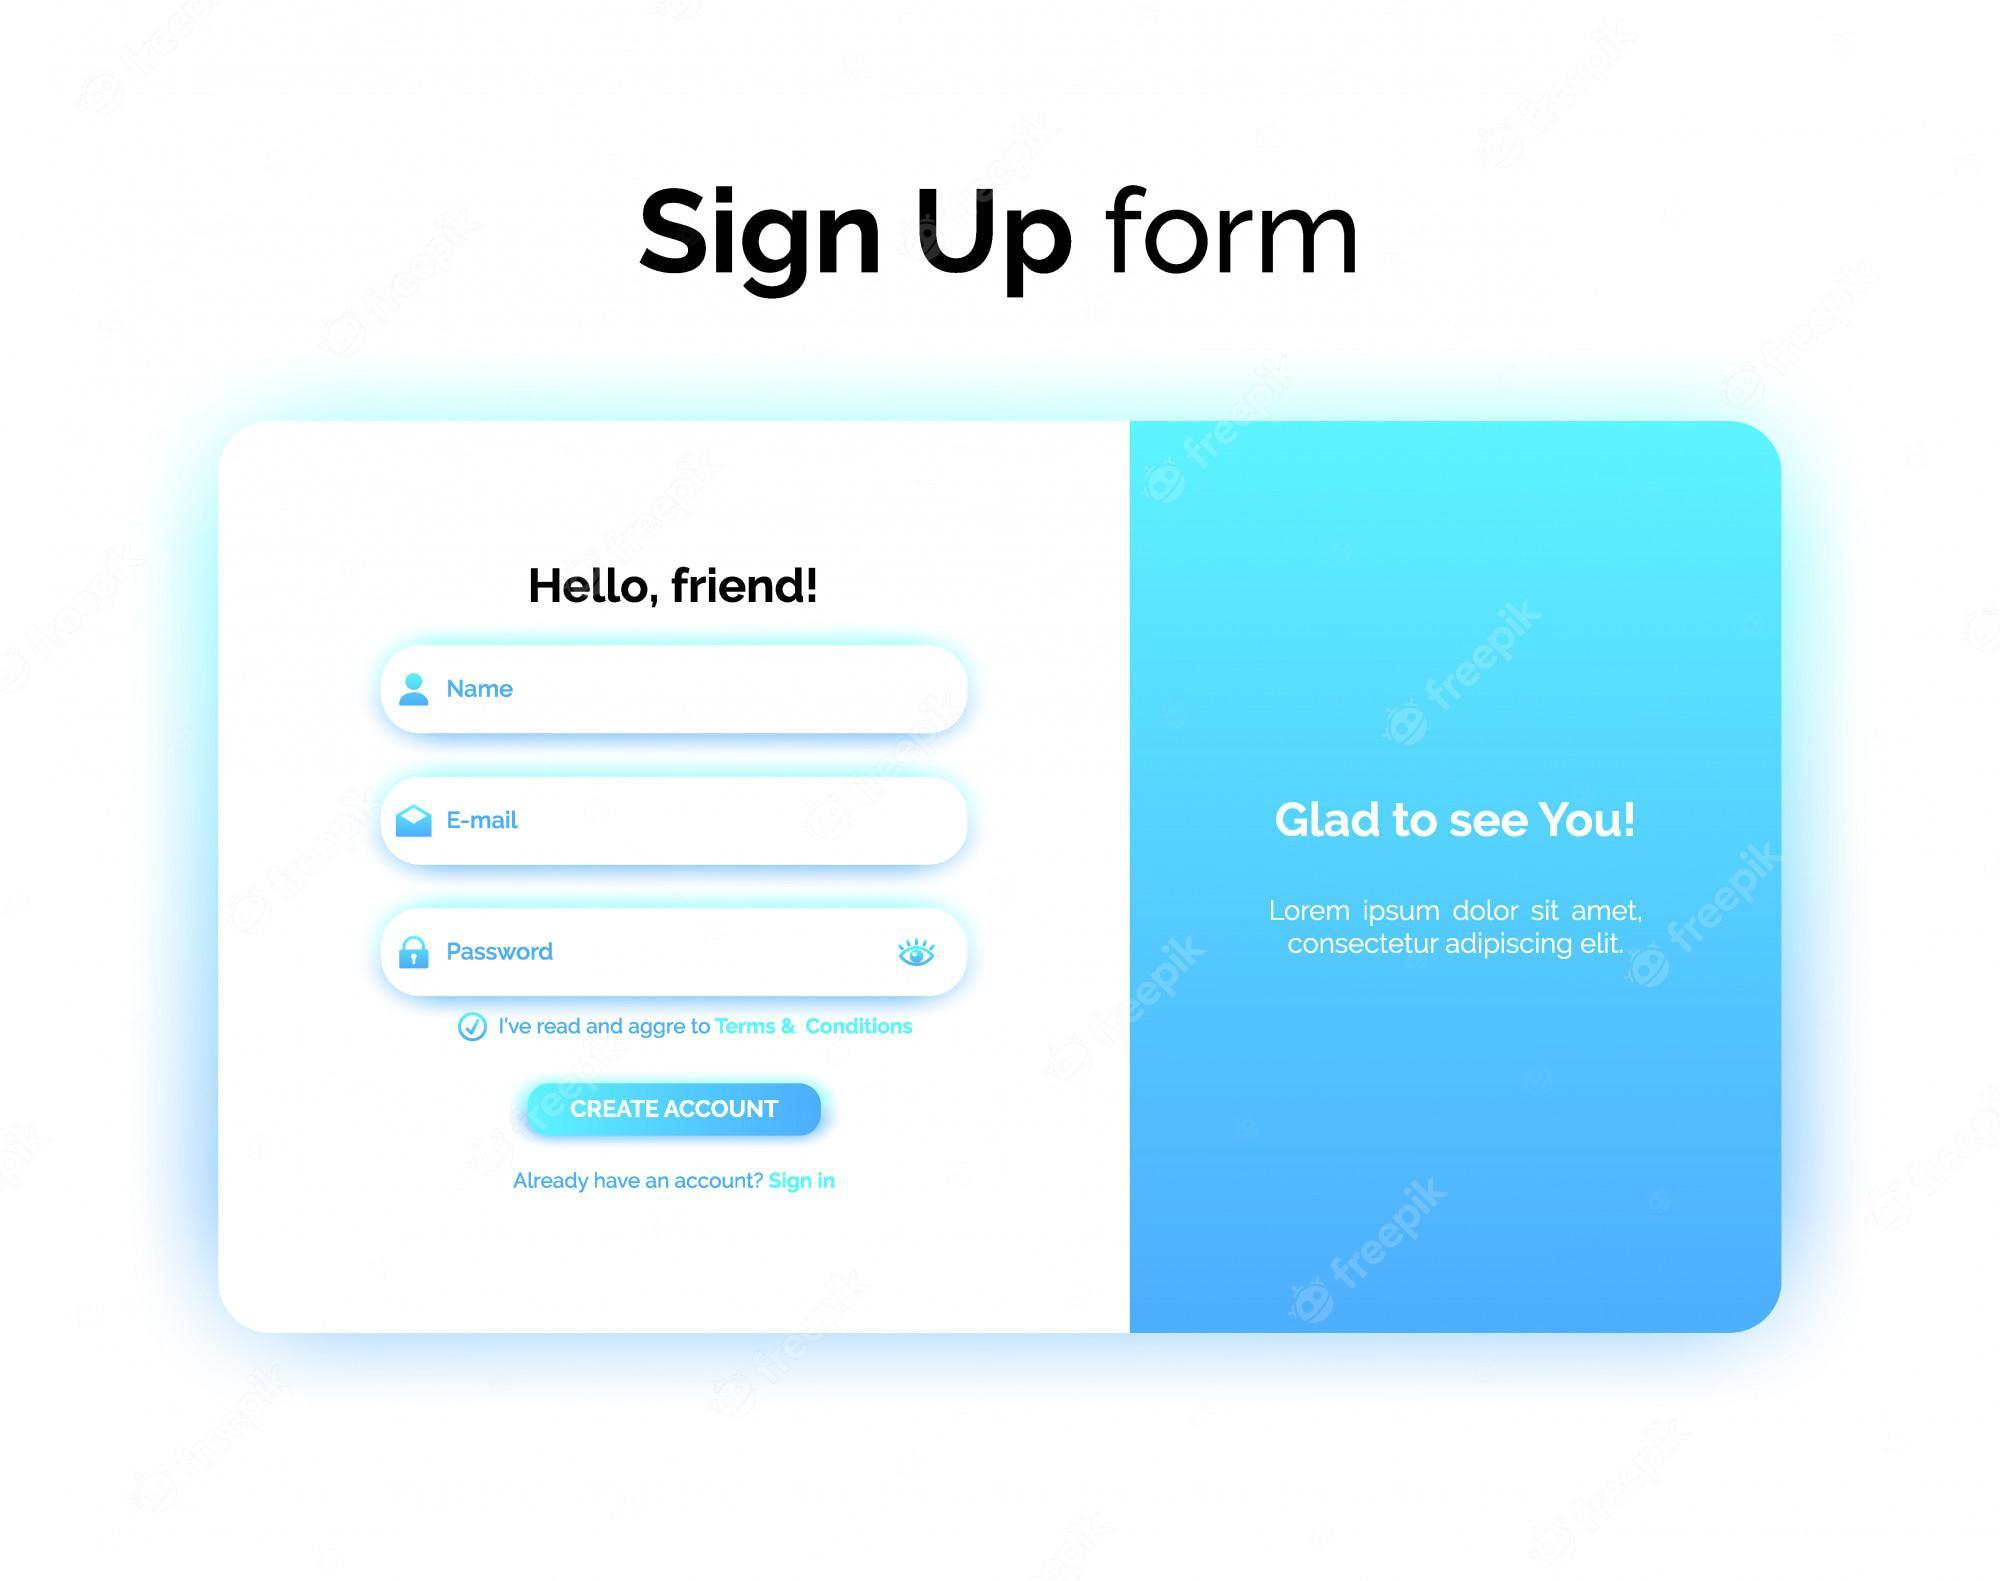button: (523, 1075, 825, 1144)
input: (375, 901, 971, 1006), (373, 769, 969, 872), (378, 649, 977, 734)
label: (640, 170, 1385, 297), (511, 558, 834, 622)
